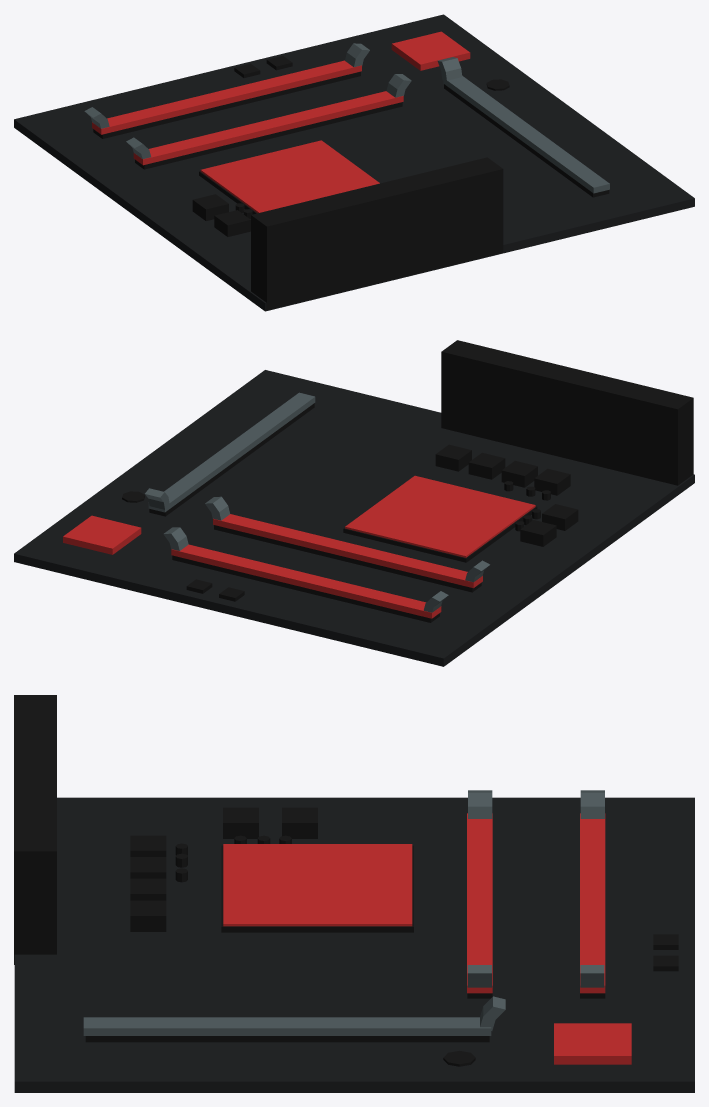
File: am5_motherboard.fbx
The picture shows the model from 3 angles, top to bottom: view 1: azimuth 30°, elevation 25°; view 2: azimuth 150°, elevation 25°; view 3: azimuth 270°, elevation 25°; orthographic projection. The views are drawn at different scales.
Visible parts, largest first — view 1: Cube; view 2: Cube; view 3: Cube, left_up, right_up.
Part boxes in pixels (<box>): Cube: <box>14,14,694,311</box>; Cube: <box>14,340,694,666</box>; Cube: <box>14,695,694,1092</box>; left_up: <box>468,790,492,818</box>; right_up: <box>580,790,604,818</box>.
Size of the model in its own units: 170 by 32.1 by 173.
